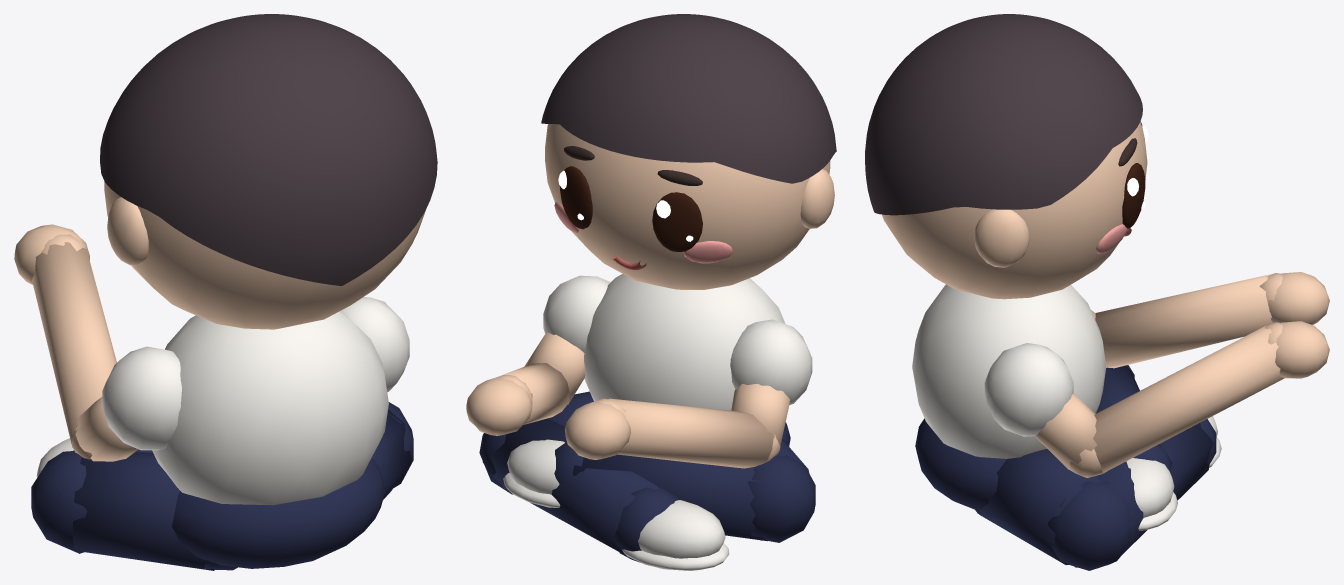
Rendered from player_floor.glb.
The picture shows the model from 3 angles, left to right: view 1: azimuth 30°, elevation 25°; view 2: azimuth 150°, elevation 25°; view 3: azimuth 270°, elevation 25°; orthographic projection. The views are drawn at different scales.
Visible parts, largest first — view 1: player_floor; view 2: player_floor; view 3: player_floor.
Part boxes in pixels (<box>): player_floor: <box>14,14,437,570</box>; player_floor: <box>466,14,836,570</box>; player_floor: <box>865,14,1329,570</box>.
Size of the model in its own units: 0.7342 by 1.01 by 0.894.
